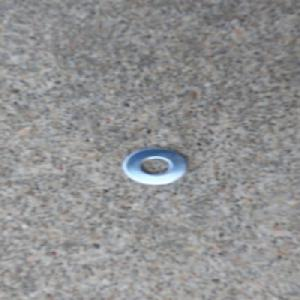Washer: (119, 146, 190, 187)
